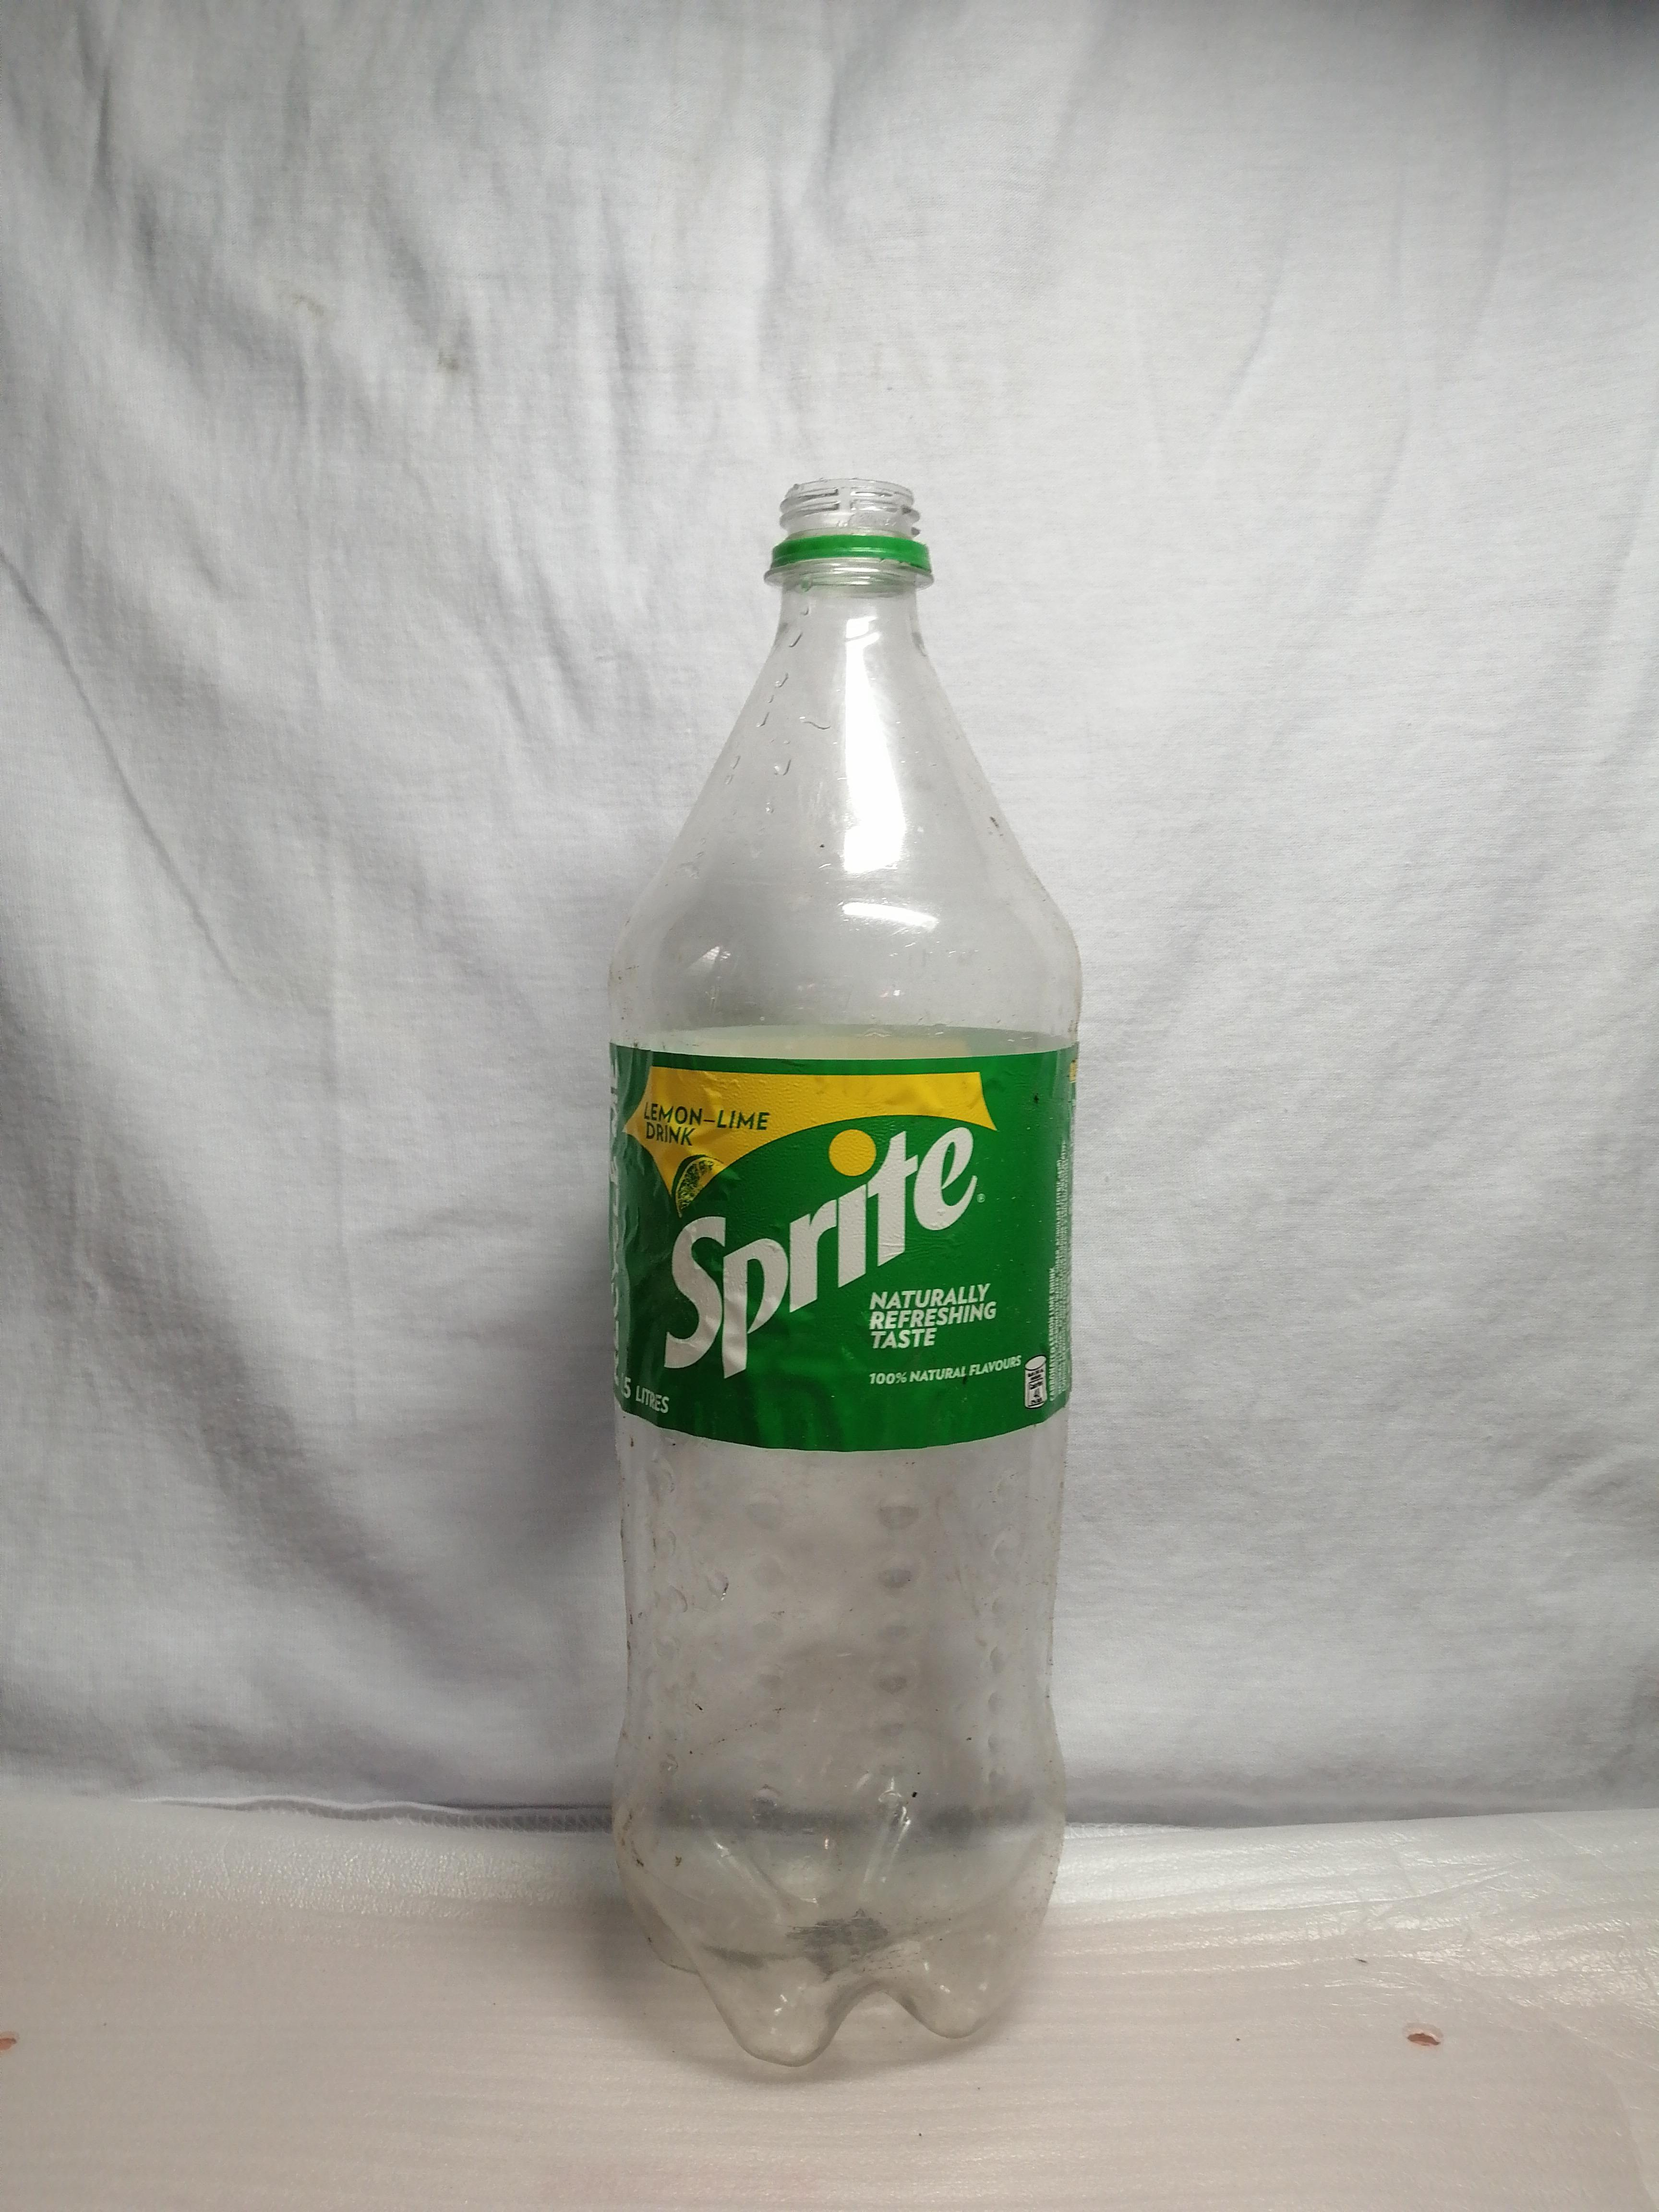plastic-bottle: (566, 408, 1138, 2098)
